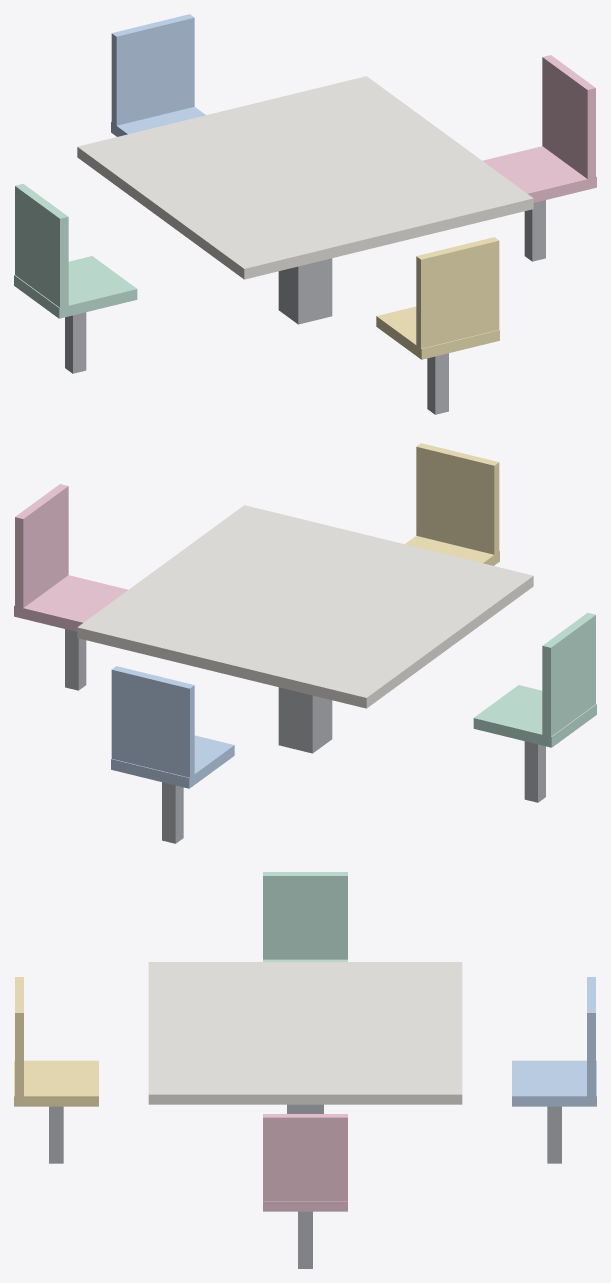
Rendered from table_and_chairs.glb.
The picture shows the model from 3 angles, top to bottom: view 1: azimuth 30°, elevation 25°; view 2: azimuth 150°, elevation 25°; view 3: azimuth 270°, elevation 25°; orthographic projection. The views are drawn at different scales.
Parts seen in each view (by area): view 1: decor_Table_Top, decor_Chair_N_Back, decor_Chair_S_Back, decor_Chair_E_Back, decor_Chair_W_Back, decor_Chair_W_Seat, decor_Chair_E_Seat, decor_Table_Leg, decor_Chair_S_Seat, decor_Chair_W_Post, decor_Chair_S_Post, decor_Chair_E_Post (+1 smaller); view 2: decor_Table_Top, decor_Chair_N_Back, decor_Chair_S_Back, decor_Chair_E_Back, decor_Chair_W_Back, decor_Chair_W_Seat, decor_Chair_E_Seat, decor_Table_Leg, decor_Chair_N_Seat, decor_Chair_W_Post, decor_Chair_N_Post, decor_Chair_E_Post (+1 smaller); view 3: decor_Table_Top, decor_Chair_E_Back, decor_Chair_W_Back, decor_Chair_N_Seat, decor_Chair_S_Seat, decor_Chair_N_Back, decor_Chair_S_Back, decor_Chair_E_Seat, decor_Chair_E_Post, decor_Chair_N_Post, decor_Chair_S_Post.
Boxes of the visible parts, box(x1,y1,x2,y2) form: decor_Table_Top: box(77, 76, 533, 279); decor_Chair_N_Back: box(111, 14, 194, 125); decor_Chair_S_Back: box(416, 237, 499, 348); decor_Chair_E_Back: box(542, 55, 595, 178); decor_Chair_W_Back: box(15, 183, 68, 307); decor_Chair_W_Seat: box(14, 256, 137, 318); decor_Chair_E_Seat: box(482, 146, 596, 202); decor_Table_Leg: box(278, 258, 332, 324); decor_Chair_S_Seat: box(376, 306, 499, 359); decor_Chair_W_Post: box(65, 312, 86, 373); decor_Chair_S_Post: box(427, 353, 448, 414); decor_Chair_E_Post: box(524, 200, 545, 261); decor_Table_Top: box(77, 505, 533, 708); decor_Chair_N_Back: box(111, 666, 194, 777); decor_Chair_S_Back: box(416, 443, 499, 554); decor_Chair_E_Back: box(15, 484, 68, 607); decor_Chair_W_Back: box(542, 612, 595, 736); decor_Chair_W_Seat: box(473, 685, 596, 747); decor_Chair_E_Seat: box(14, 575, 128, 631); decor_Table_Leg: box(278, 687, 332, 753); decor_Chair_N_Seat: box(111, 735, 234, 788); decor_Chair_W_Post: box(524, 741, 545, 802); decor_Chair_N_Post: box(162, 782, 183, 843); decor_Chair_E_Post: box(65, 629, 86, 690); decor_Table_Top: box(148, 962, 462, 1104); decor_Chair_E_Back: box(263, 1114, 347, 1201); decor_Chair_W_Back: box(263, 872, 347, 959); decor_Chair_N_Seat: box(512, 1060, 596, 1106); decor_Chair_S_Seat: box(14, 1060, 98, 1106); decor_Chair_N_Back: box(587, 977, 595, 1096); decor_Chair_S_Back: box(15, 977, 23, 1096); decor_Chair_E_Seat: box(263, 1201, 347, 1211); decor_Chair_E_Post: box(298, 1211, 312, 1268); decor_Chair_N_Post: box(547, 1106, 561, 1163); decor_Chair_S_Post: box(49, 1106, 63, 1163).
Bounding box in the file's own units: 3.16 × 0.99 × 3.16.
